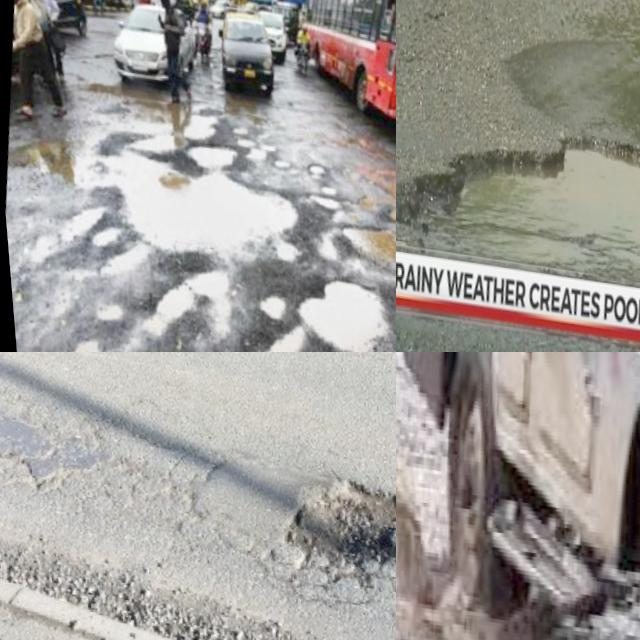Potholes: (396, 53, 640, 352), (0, 55, 308, 289), (240, 414, 396, 618), (150, 243, 349, 352), (233, 226, 396, 352), (283, 140, 396, 287), (67, 255, 226, 352), (0, 398, 124, 519)
